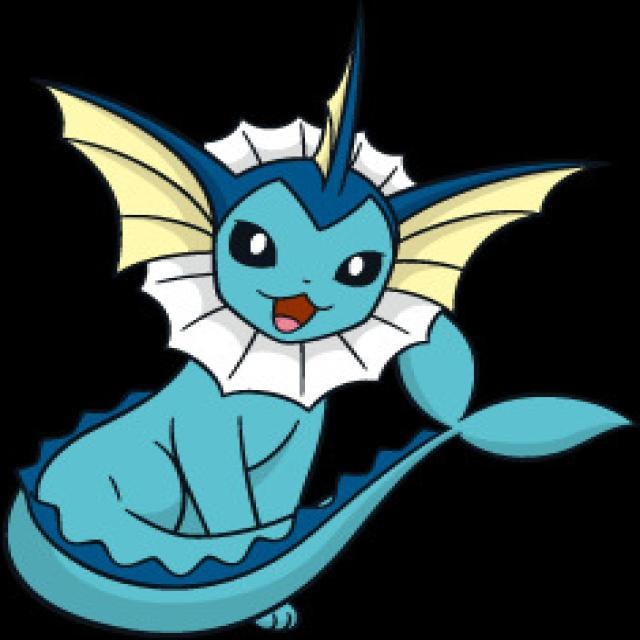Vaporeon: (38, 121, 463, 611)
